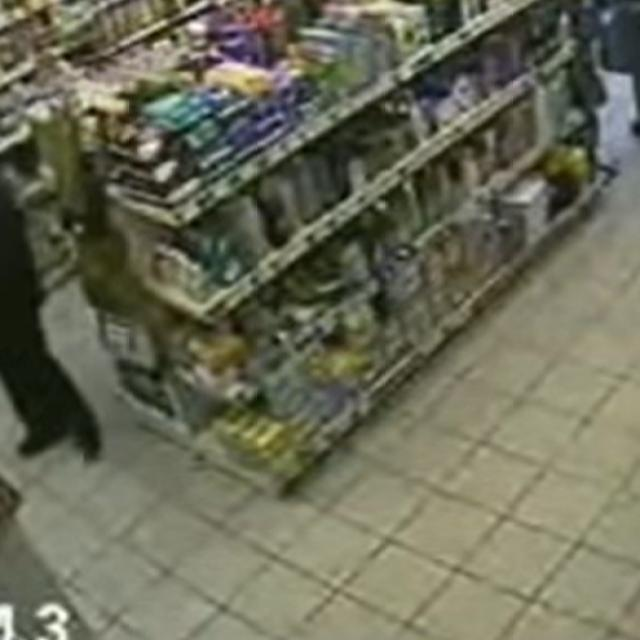person: (0, 179, 100, 460)
